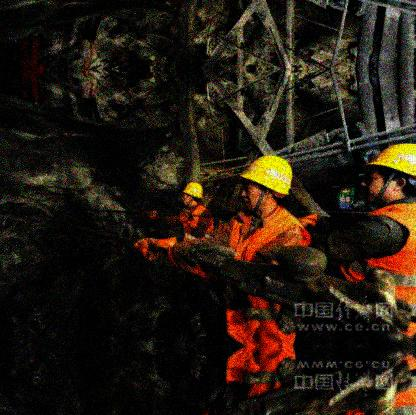helmet: (360, 141, 416, 207), (238, 156, 293, 212), (182, 183, 205, 207)
